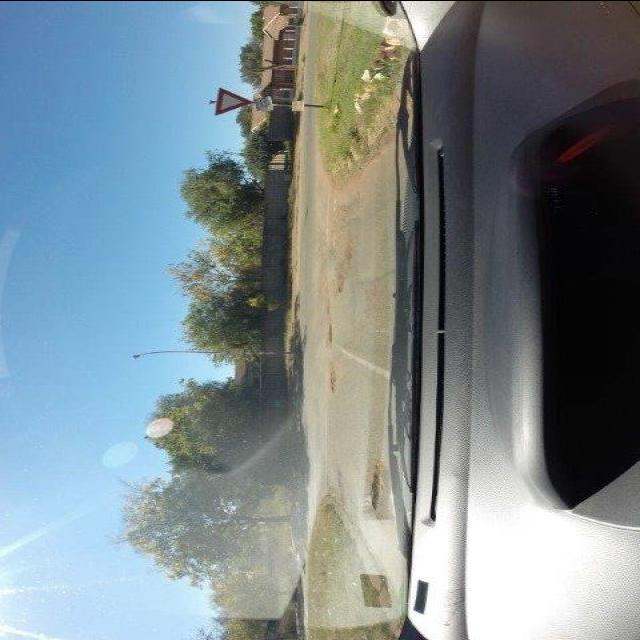lubang: (362, 460, 384, 510), (334, 276, 346, 298), (326, 368, 336, 394), (326, 316, 334, 348)
